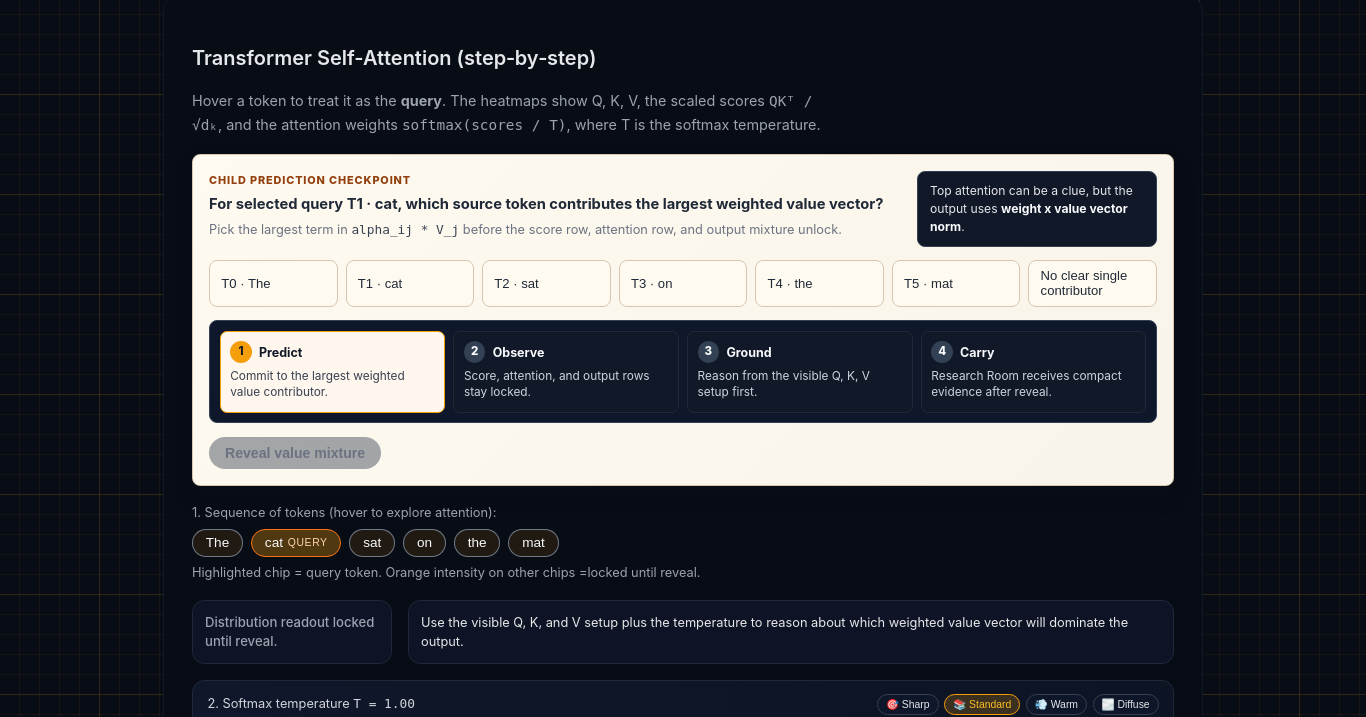
Test case: SelfAttentionViz › clears stale reveal and shared state when temperature changes
Click the button "T5 · mat" at (956, 283), box [892,260,1020,307]
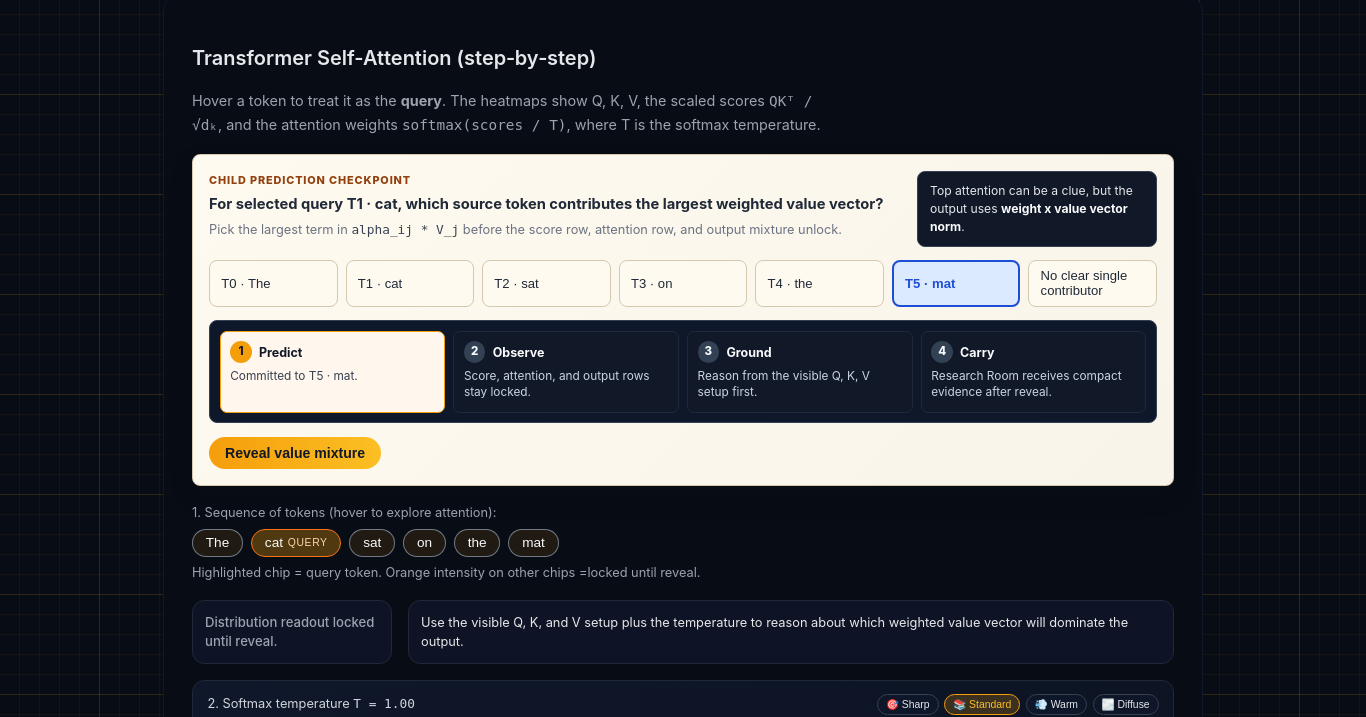
Click the button "Reveal value mixture" at (295, 453), box [209,437,381,469]
(page scrolled)
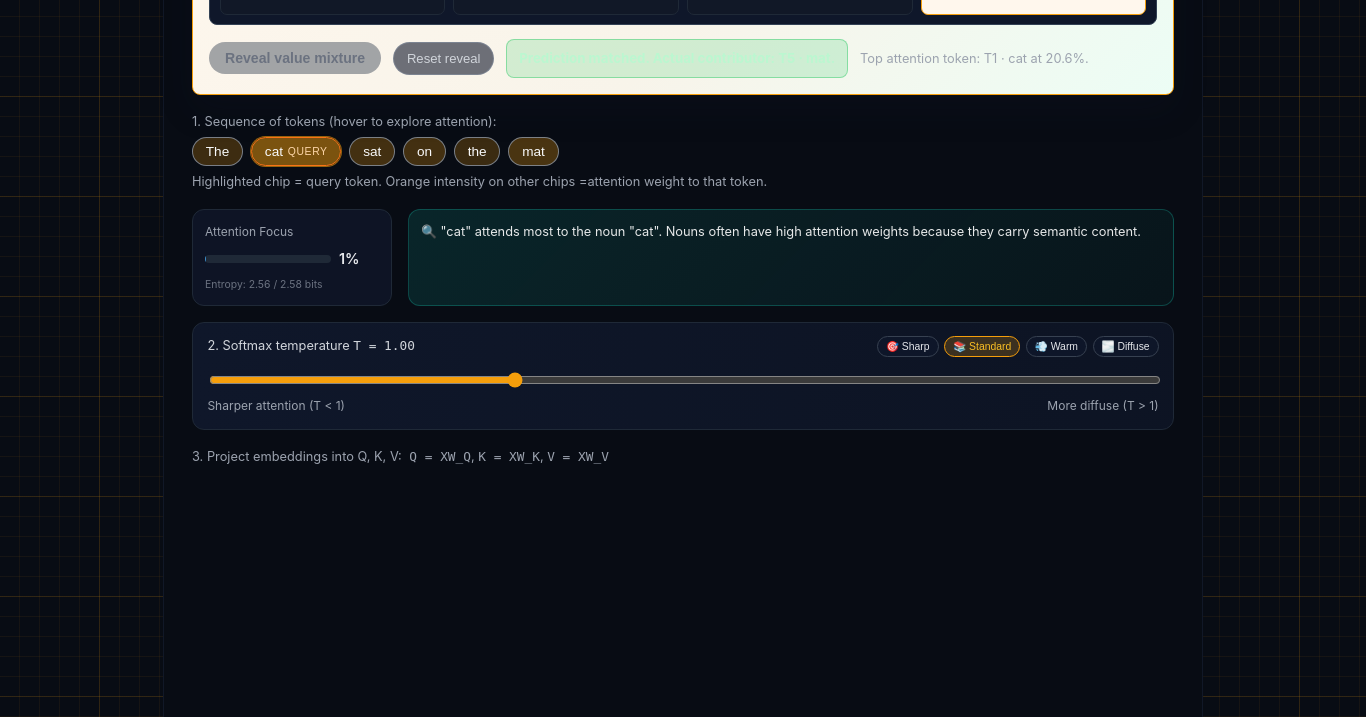
Expected: the text "Prediction matched. Actual contributor: T5 · mat." is shown, [506,39,848,78]
Set the slider named "Softmax temperature" to "1.5" at (728, 380), box [209,372,1161,388]
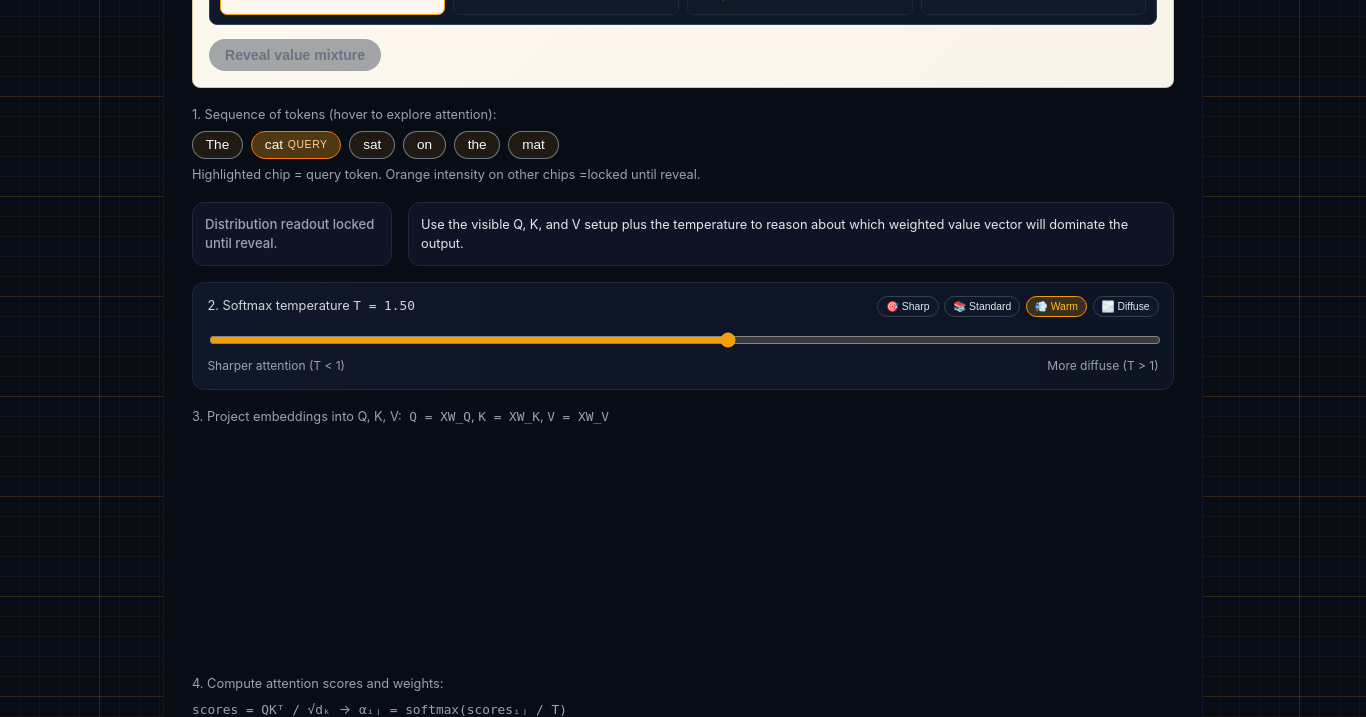
Expected: the button "Reveal value mixture" is disabled, [209,39,381,71]
Expected: the text "Prediction matched." is gone
Expected: the text "Actual contributor:" is gone
